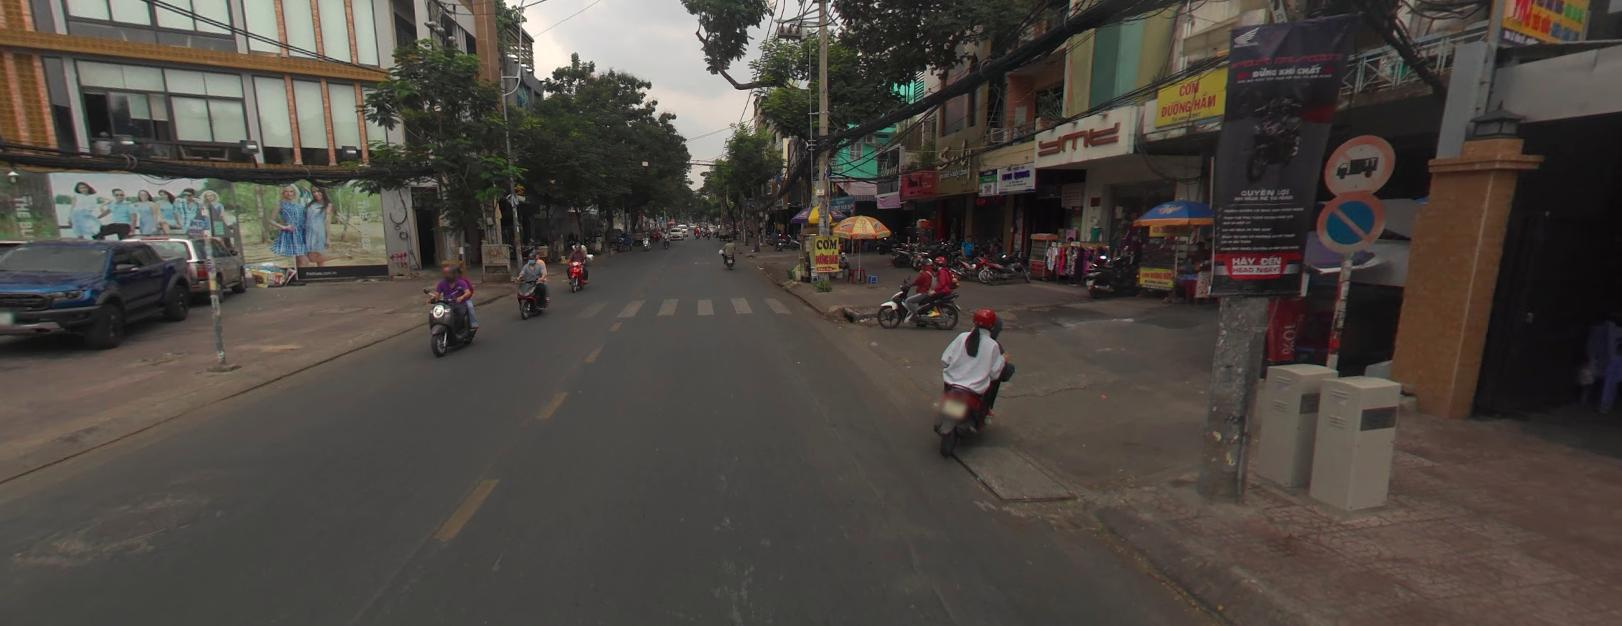Cam con lai: (1324, 129, 1388, 192)
Cam dung va do: (1314, 190, 1383, 248)
